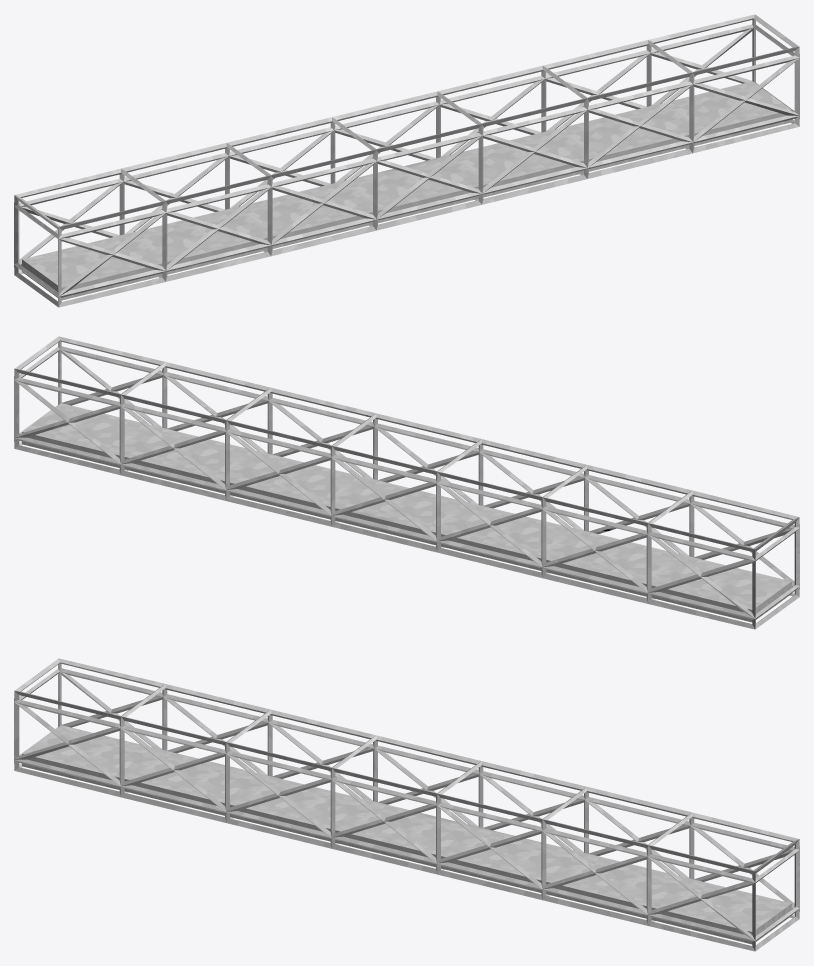
File: Scaff.fbx
3 renders of one model, top to bottom at view 1: azimuth 30°, elevation 25°; view 2: azimuth 150°, elevation 25°; view 3: azimuth 330°, elevation 25°, orthographic.
Parts seen in each view (by area): view 1: Frame, Floor; view 2: Frame, Floor; view 3: Frame, Floor.
Boxes of the visible parts, x1=… form: Frame: x1=14, y1=14, x2=799, y2=307; Floor: x1=22, y1=81, x2=791, y2=300; Frame: x1=14, y1=336, x2=799, y2=629; Floor: x1=22, y1=403, x2=791, y2=622; Frame: x1=14, y1=658, x2=799, y2=951; Floor: x1=22, y1=725, x2=791, y2=944.
Size of the model in its own units: 2009 by 209 by 213.
1 material, 1 textured.
